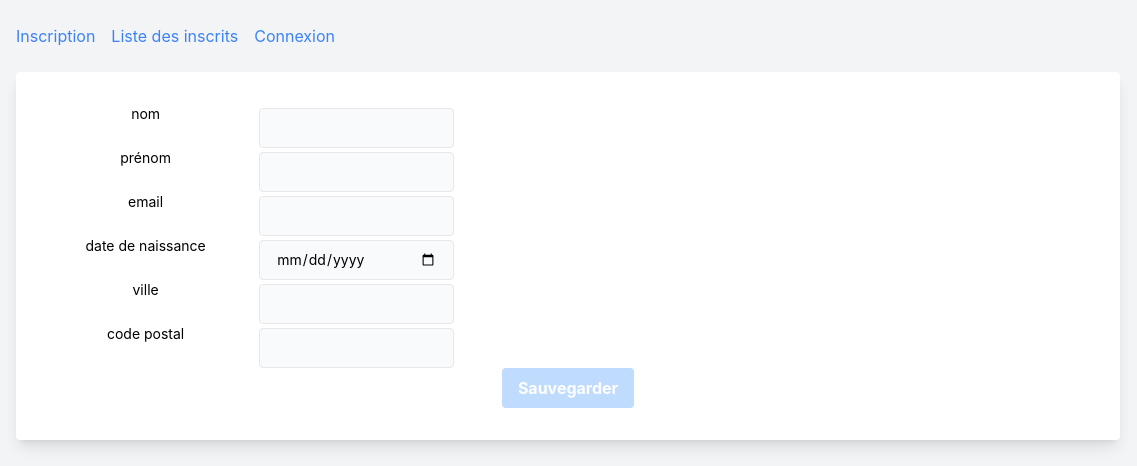
Inscription form testing › form name is invalid
This screenshot has width=1137, height=466.
Type "TestN@" into the field named "nom" at (357, 128), box [259,108,454,148]
Type "TestP" into the field named "prenom" at (357, 172), box [259,152,454,192]
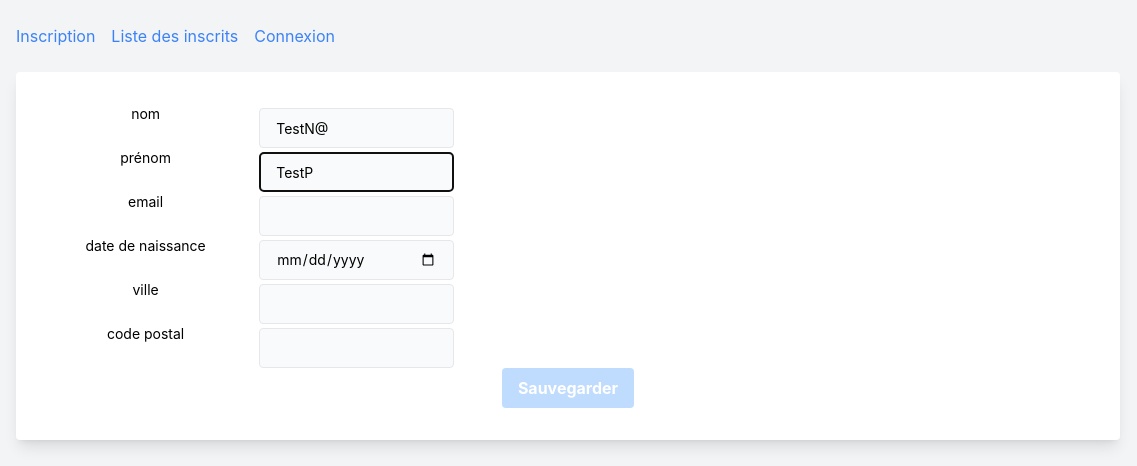
Type "testp.testn@example.com" into the field named "email" at (357, 216), box [259,196,454,236]
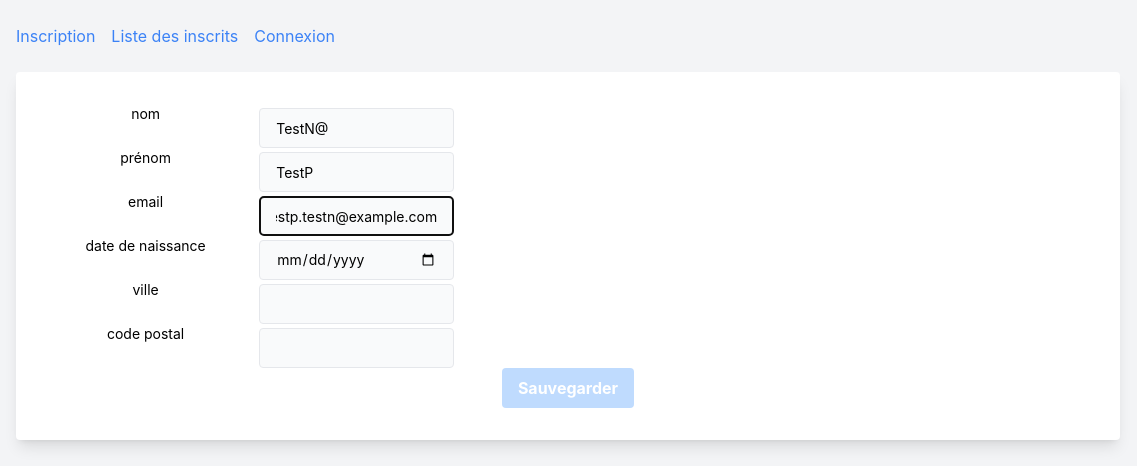
Type "1990-05-20" into the date field named "date" at (357, 260), box [259,240,454,280]
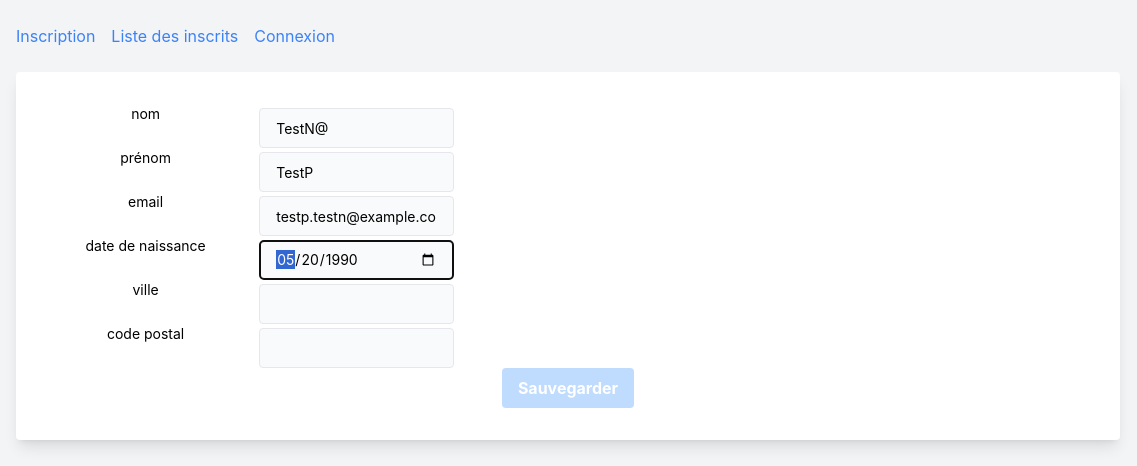
Type "Paris" into the field named "ville" at (357, 304), box [259,284,454,324]
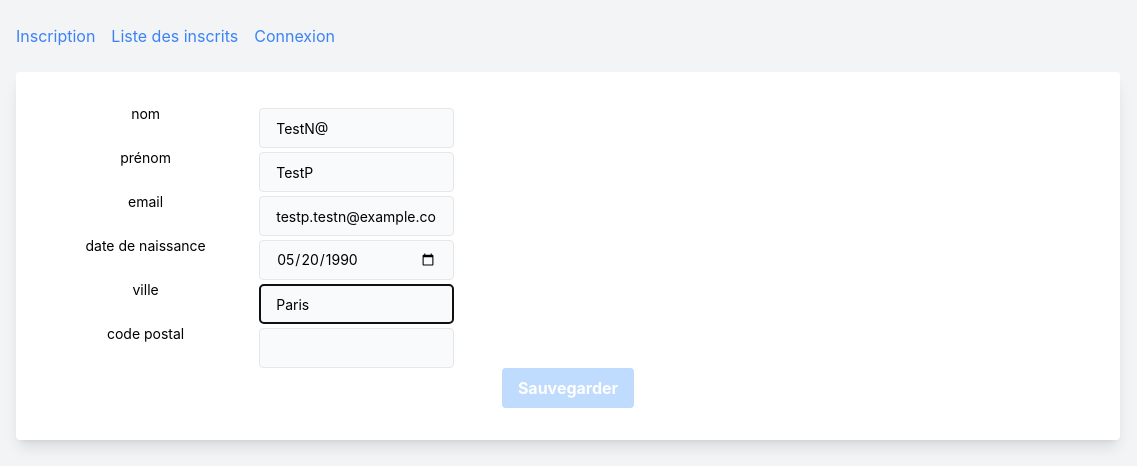
Type "75001" into the field named "code" at (357, 348), box [259,328,454,368]
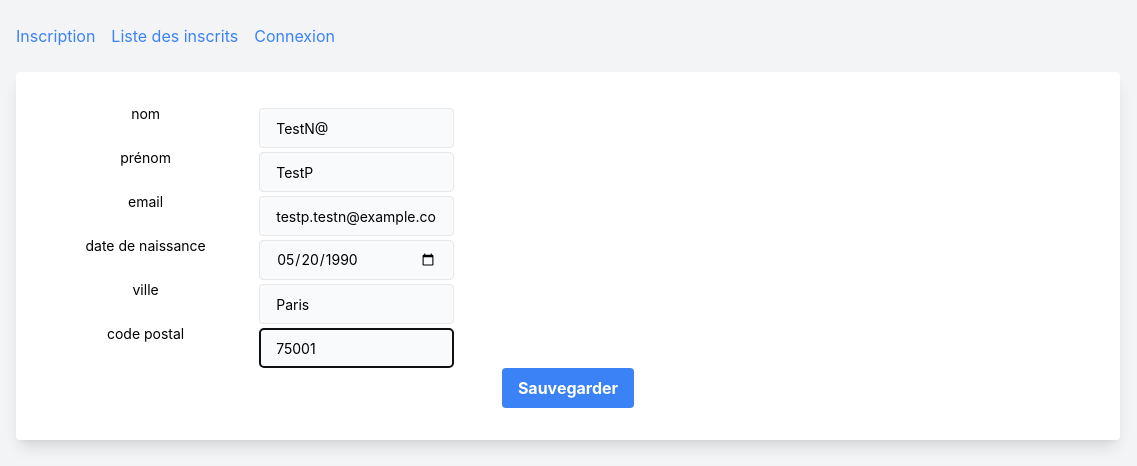
Result: the submit button is enabled
Click the submit button at (568, 388), box [502,368,634,408]
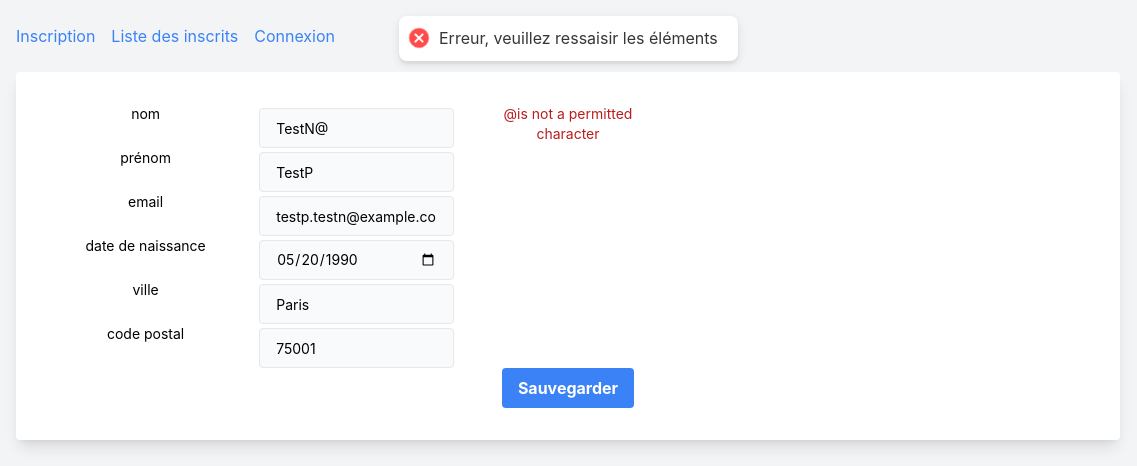
Result: the text "is not a permitted character" is shown at [504,105,633,142]
